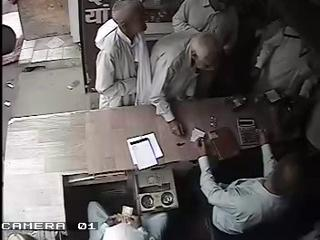Normal: (197, 131, 307, 240), (147, 10, 234, 138), (172, 0, 214, 33)
shoplifting: (94, 0, 152, 110)
